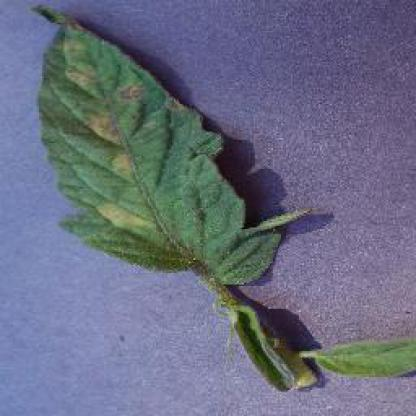bad leaf: (21, 15, 359, 393)
